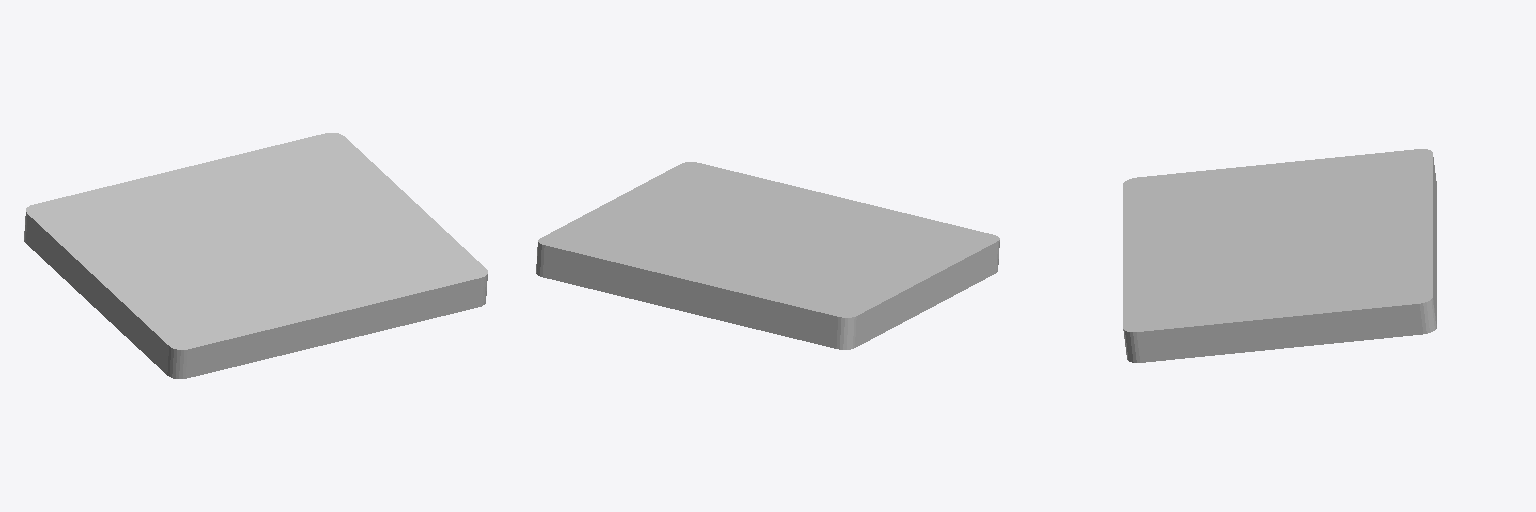
File: original-74.obj
3 views of the same model, side by side, from view 1: azimuth 30°, elevation 25°; view 2: azimuth 150°, elevation 25°; view 3: azimuth 270°, elevation 25° (orthographic).
Visible parts, largest first — view 1: mesh73/mesh73-geometry#mesh73-geometry; view 2: mesh73/mesh73-geometry#mesh73-geometry; view 3: mesh73/mesh73-geometry#mesh73-geometry.
Part boxes in pixels (x1,y1,x2,y2): mesh73/mesh73-geometry#mesh73-geometry: (24, 133, 487, 378); mesh73/mesh73-geometry#mesh73-geometry: (536, 162, 999, 349); mesh73/mesh73-geometry#mesh73-geometry: (1123, 149, 1436, 362).
Bounding box in the file's own units: 0.1365 × 0.0255 × 0.1169.